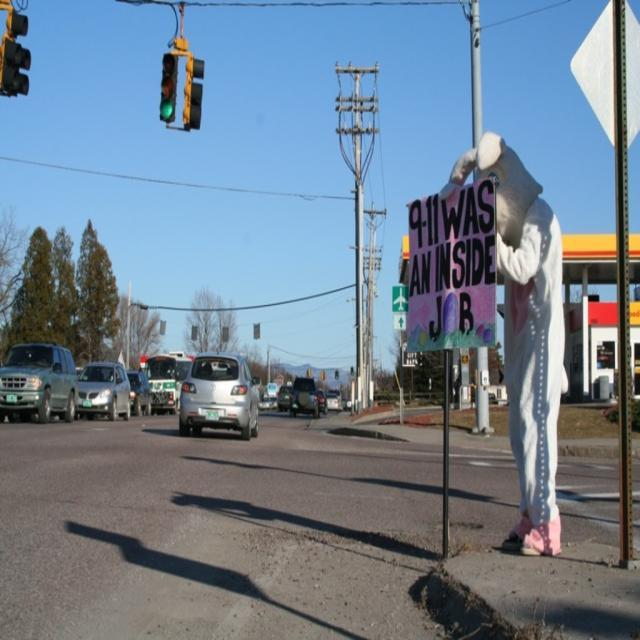off traffic light: (0, 10, 36, 98), (187, 59, 204, 128)
traffic light: (160, 50, 178, 121)
